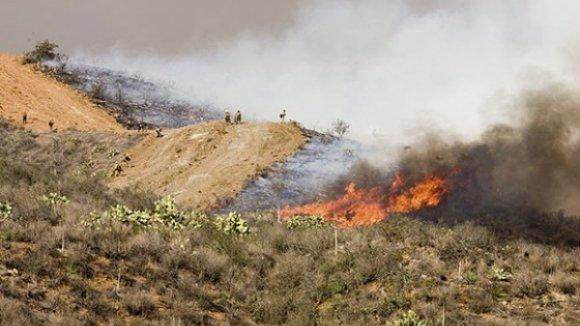fire: (394, 180, 448, 215), (316, 198, 388, 223)
smoke: (482, 162, 562, 214)
